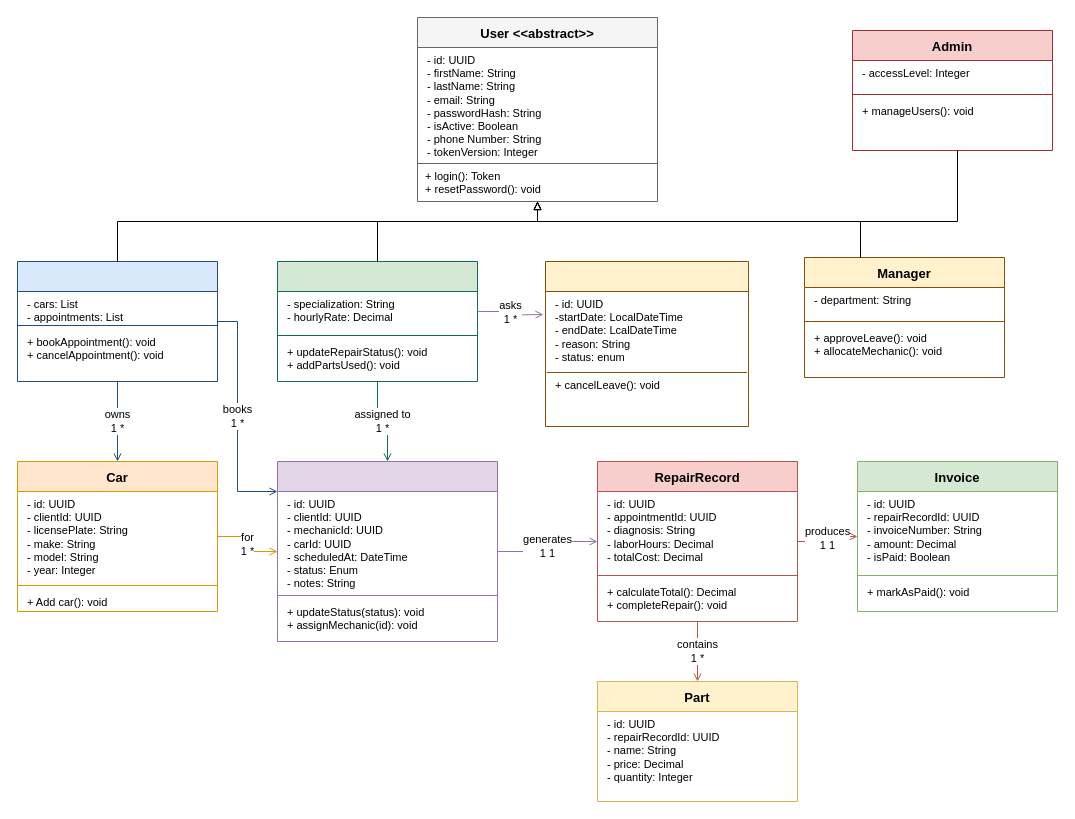
The diagram is 1075 pixels wide and 819 high, and some of its shapes have lost their labels. Here are the shapes that lost their labels. From the top down, the box of each, then its label:
(16, 260, 218, 382): Client
(276, 260, 478, 382): Mechanic
(544, 260, 748, 426): MechanicLeave
(276, 460, 498, 642): Appointment
